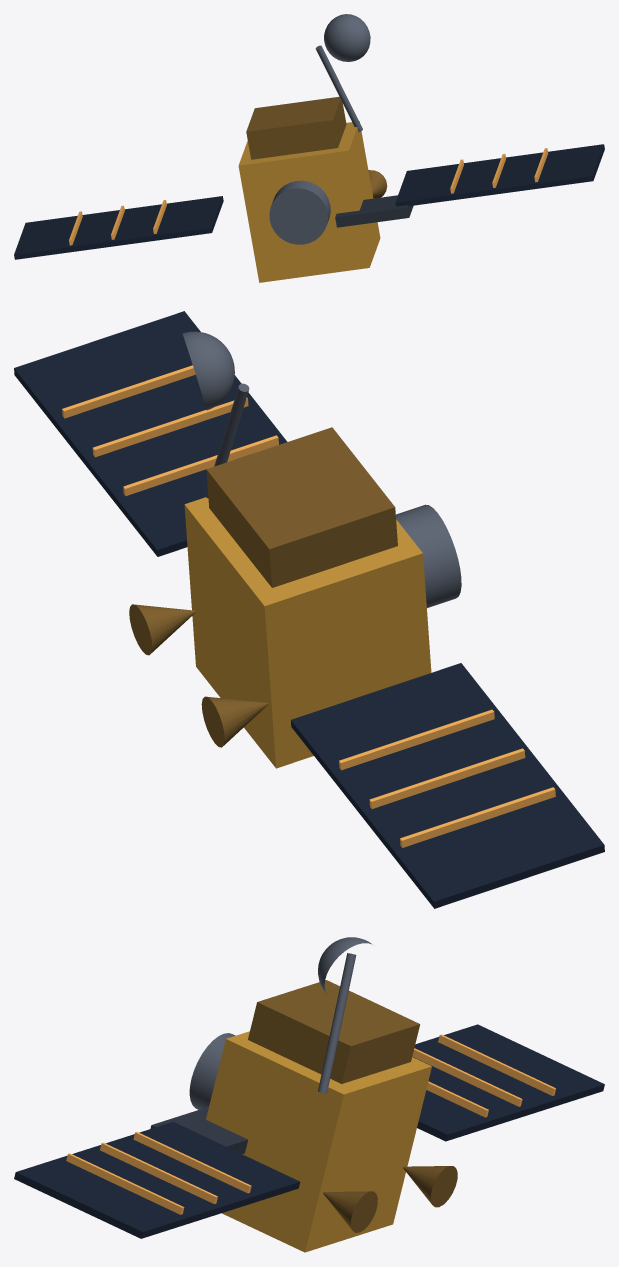
The model's file is insat-3dr.glb.
The picture shows the model from 3 angles, top to bottom: view 1: azimuth 30°, elevation 25°; view 2: azimuth 150°, elevation 25°; view 3: azimuth 270°, elevation 25°; orthographic projection. The views are drawn at different scales.
Parts seen in each view (by area): view 1: Bus_GeoCore, SolarPanels_Left, SolarPanels_Right, Bus_AvionicsDeck, Payload_WeatherImager, Antenna_Dish, Payload_Radiator, SolarPanels, Antenna_Mast, Thrusters_Nozzle_0.38; view 2: SolarPanels_Left, Bus_GeoCore, SolarPanels_Right, Bus_AvionicsDeck, SolarPanels, Payload_WeatherImager, Antenna_Dish, Thrusters_Nozzle_0.38, Thrusters_Nozzle_-0.38, Antenna_Mast; view 3: Bus_GeoCore, SolarPanels_Right, Bus_AvionicsDeck, SolarPanels_Left, SolarPanels, Payload_WeatherImager, Thrusters_Nozzle_0.38, Thrusters_Nozzle_-0.38, Antenna_Mast, Payload_Radiator, Antenna_Dish.
Boxes of the visible parts, box(x1,y1,x2,y2) form: Bus_GeoCore: box(238, 121, 380, 282); SolarPanels_Left: box(14, 196, 223, 259); SolarPanels_Right: box(395, 144, 604, 206); Bus_AvionicsDeck: box(246, 96, 346, 159); Payload_WeatherImager: box(269, 180, 330, 244); Antenna_Dish: box(324, 14, 370, 61); Payload_Radiator: box(335, 195, 413, 227); SolarPanels: box(69, 148, 548, 245); Antenna_Mast: box(315, 45, 362, 131); Thrusters_Nozzle_0.38: box(368, 170, 387, 198); SolarPanels_Left: box(291, 663, 604, 908); Bus_GeoCore: box(184, 497, 431, 768); SolarPanels_Right: box(14, 311, 287, 556); Bus_AvionicsDeck: box(206, 427, 397, 587); SolarPanels: box(62, 365, 555, 847); Payload_WeatherImager: box(396, 504, 461, 607); Antenna_Dish: box(182, 331, 234, 410); Thrusters_Nozzle_0.38: box(129, 604, 195, 655); Thrusters_Nozzle_-0.38: box(201, 696, 268, 747); Antenna_Mast: box(205, 383, 249, 498); Bus_GeoCore: box(206, 1031, 431, 1252); SolarPanels_Right: box(14, 1122, 300, 1238); Bus_AvionicsDeck: box(248, 980, 420, 1083); SolarPanels_Left: box(413, 1024, 604, 1141); SolarPanels: box(66, 1034, 555, 1214); Payload_WeatherImager: box(189, 1033, 235, 1109); Thrusters_Nozzle_0.38: box(323, 1191, 377, 1232); Thrusters_Nozzle_-0.38: box(403, 1166, 457, 1207); Antenna_Mast: box(318, 953, 356, 1093); Payload_Radiator: box(150, 1107, 247, 1153); Antenna_Dish: box(318, 937, 371, 994).
Bounding box in the file's own units: 4.87 × 2.29 × 3.75.
